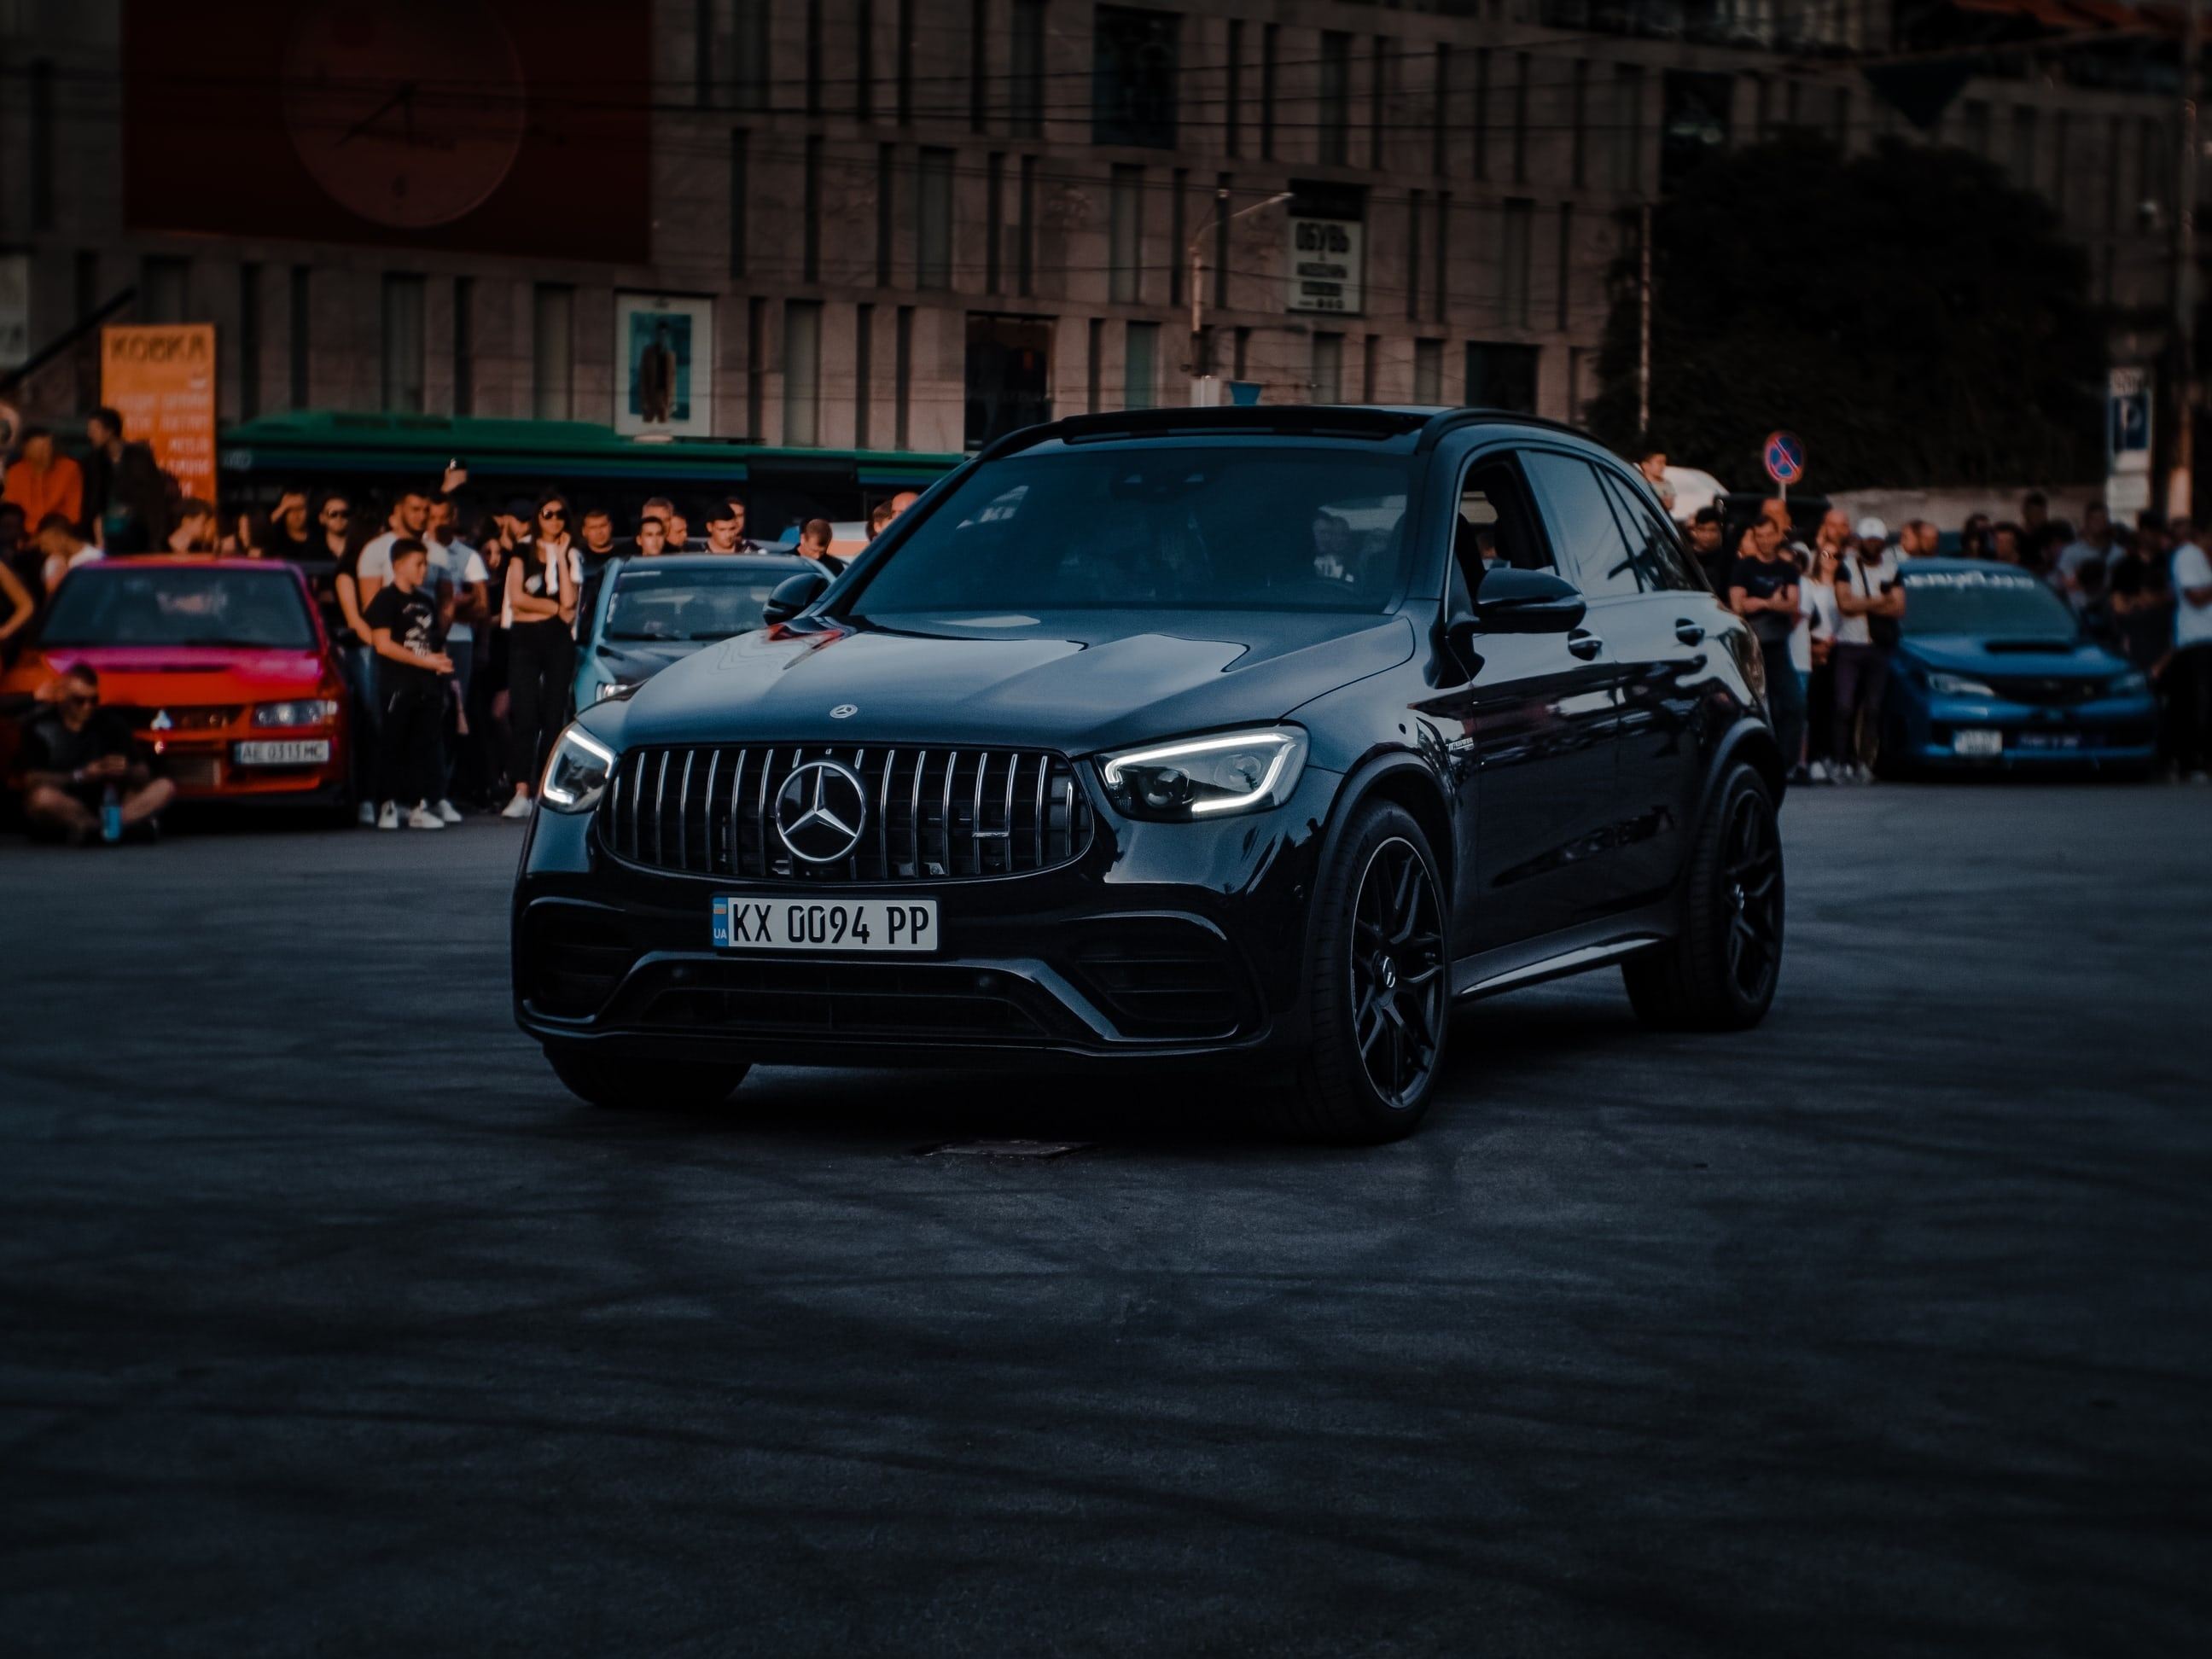plaka: (707, 890, 945, 956)
